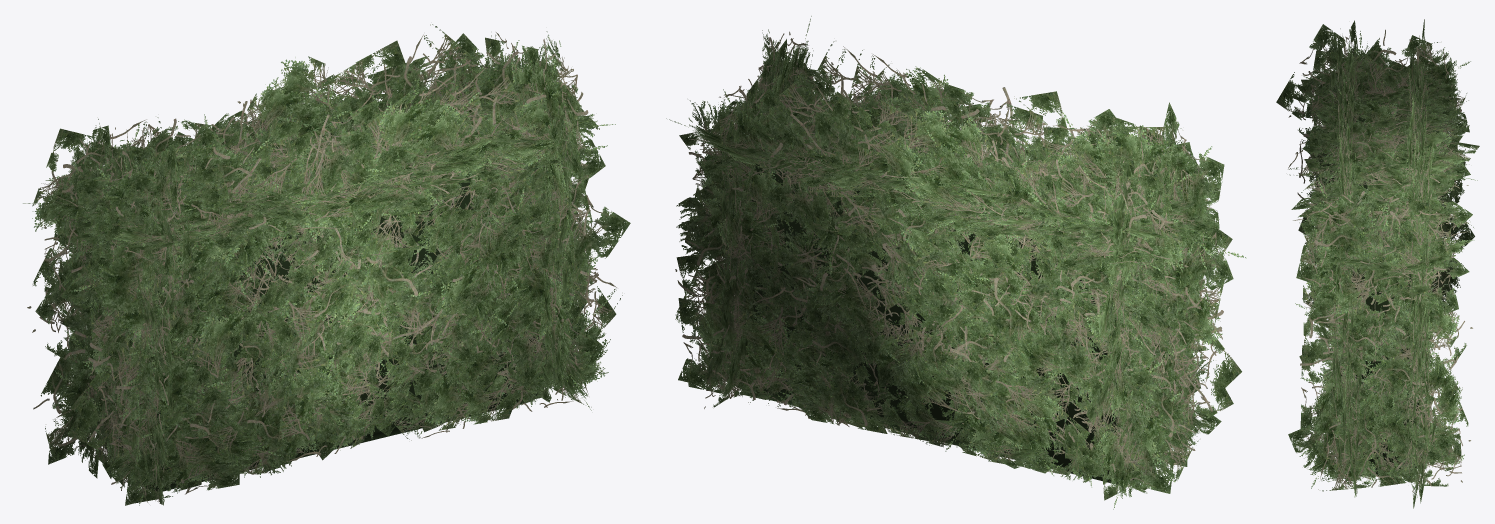
File: hedge-01.glb
3 views of the same model, side by side, from view 1: azimuth 30°, elevation 25°; view 2: azimuth 150°, elevation 25°; view 3: azimuth 270°, elevation 25° (orthographic). The views are drawn at different scales.
Parts seen in each view (by area): view 1: hedge-01; view 2: hedge-01; view 3: hedge-01.
Part boxes in pixels (<box>): hedge-01: <box>23,24,630,505</box>; hedge-01: <box>666,16,1246,509</box>; hedge-01: <box>1276,19,1479,508</box>.
Size of the model in its own units: 2 by 1.25 by 0.75.
2 materials, 1 textured.
